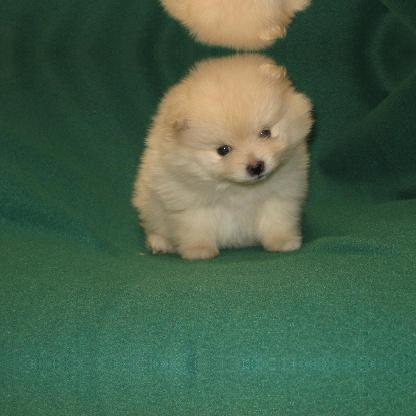Dog: (129, 52, 316, 264), (129, 0, 317, 53)
